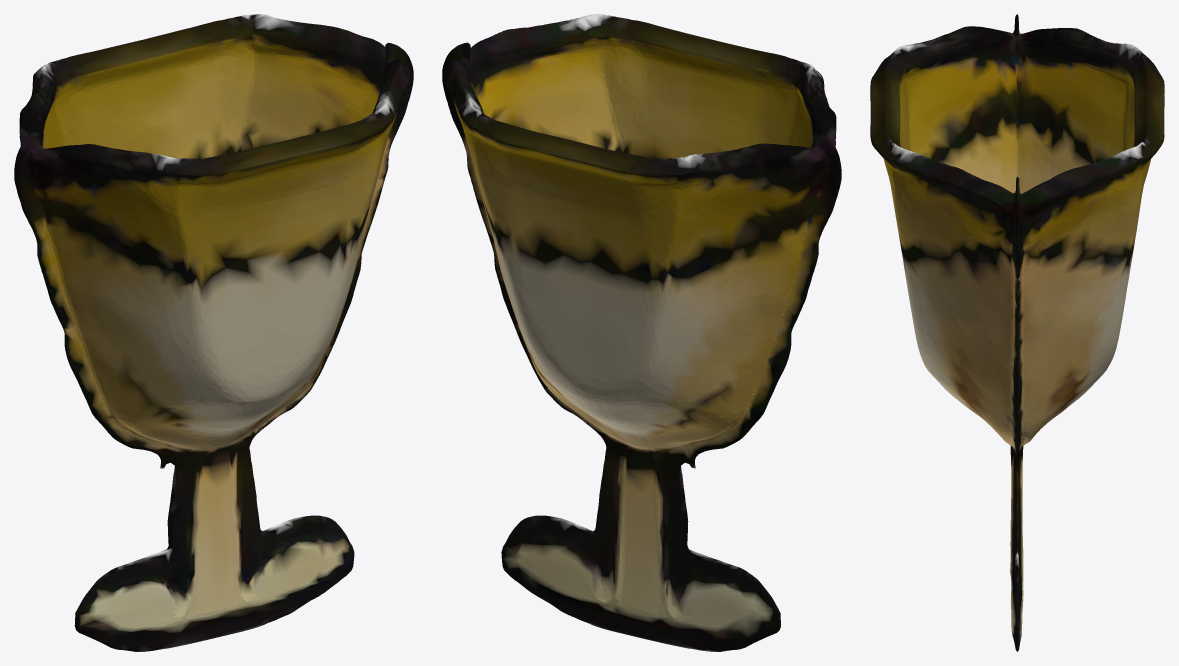
Rendered from chalice_bro.glb.
3 views of the same model, side by side, from view 1: azimuth 30°, elevation 25°; view 2: azimuth 150°, elevation 25°; view 3: azimuth 270°, elevation 25° (orthographic). The views are drawn at different scales.
Parts seen in each view (by area): view 1: geometry_0; view 2: geometry_0; view 3: geometry_0.
Boxes of the visible parts, x1=… form: geometry_0: x1=14, y1=14, x2=413, y2=651; geometry_0: x1=442, y1=14, x2=841, y2=651; geometry_0: x1=870, y1=14, x2=1164, y2=651.
Bounding box in the file's own units: 0.5 × 0.6633 × 0.3378.
